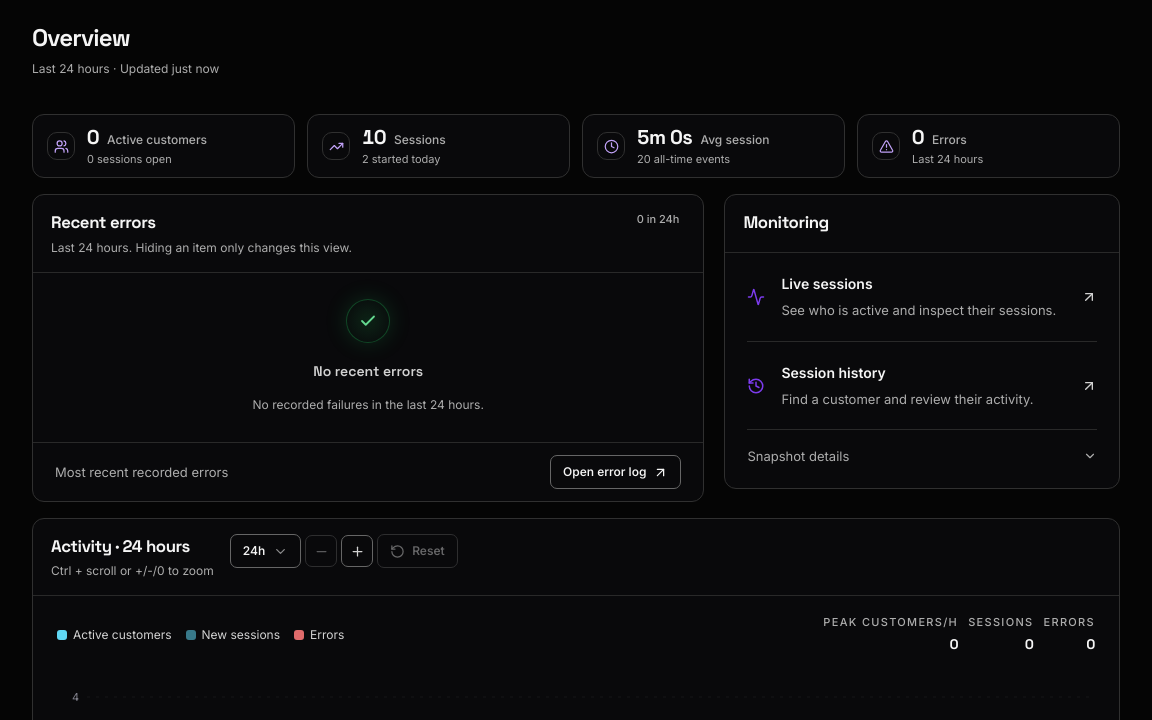
it: monitoring overview workspace › retains real keyboard-accessible zoom and reset controls
Click the button named "Zoom in". click: point(357, 551)
box: [341,535,373,567]
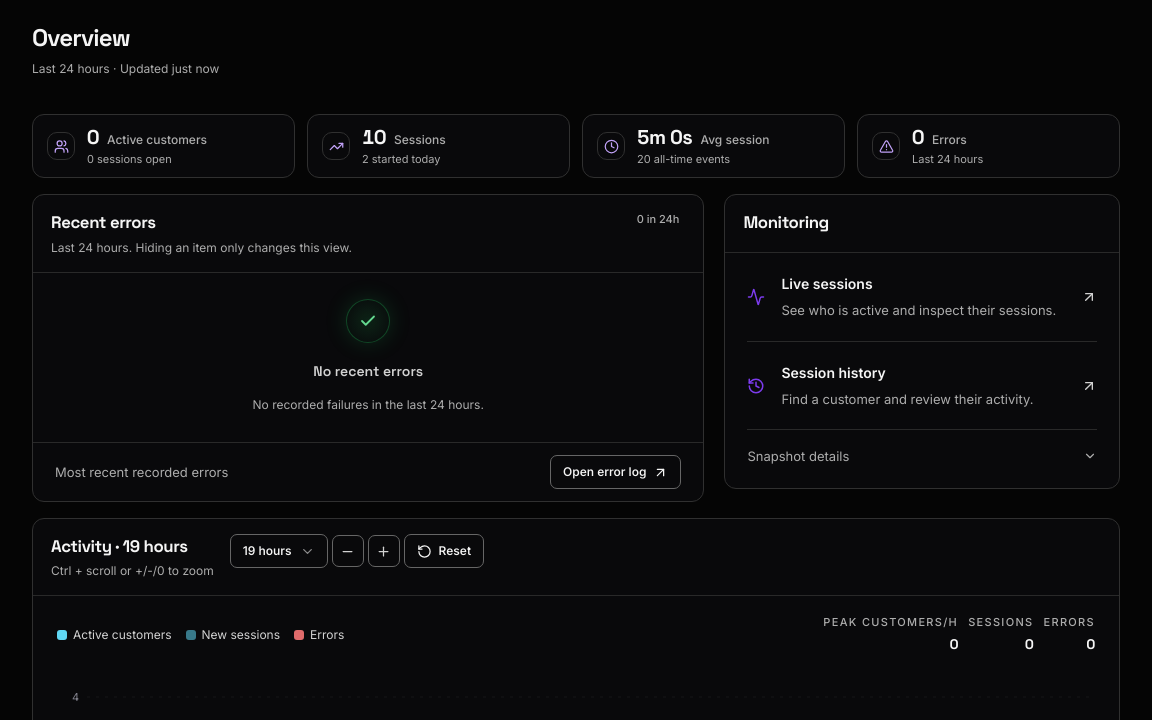
Check: the text "Activity · 19 hours" is shown, box [51,535,188,557]
Click the button "Reset". click: point(444, 551)
box: [404,534,484,568]
(page scrolled)
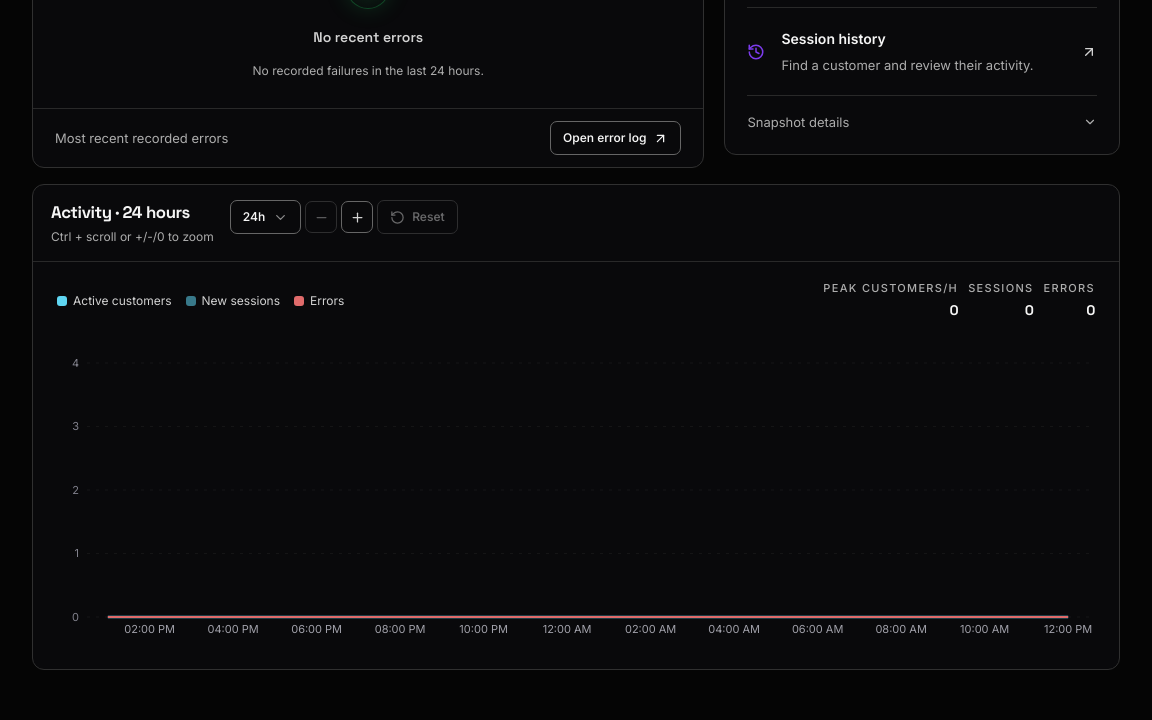
Check: the text "Activity · 24 hours" is shown, box [51,200,214,226]
